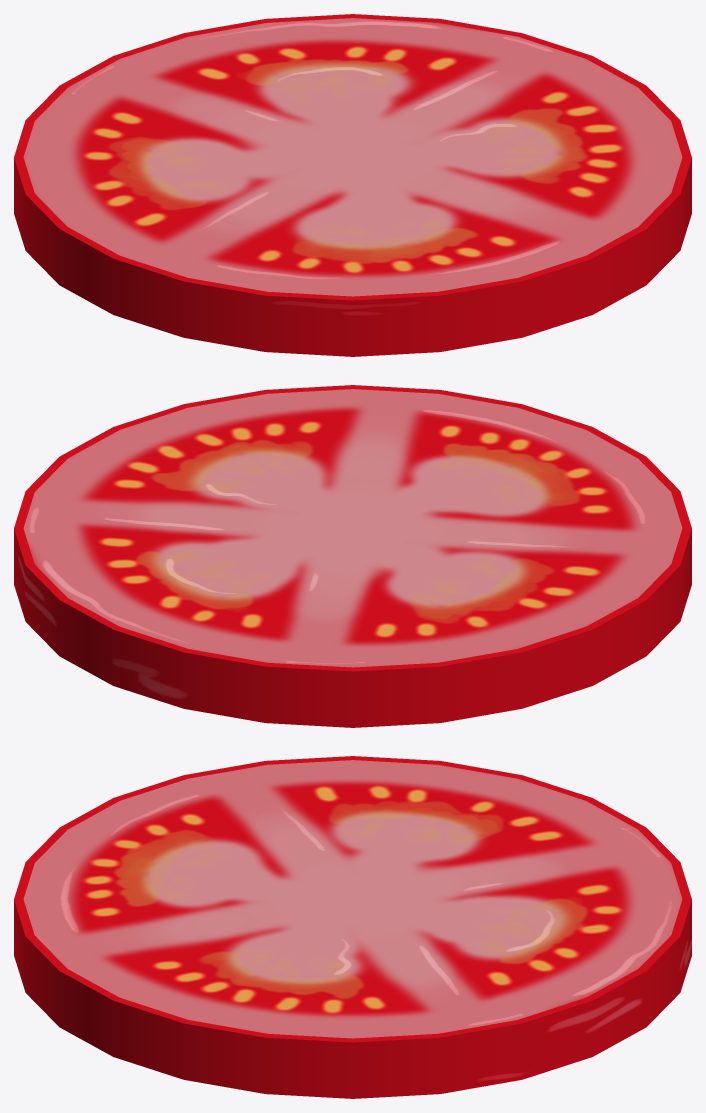
File: tomate.fbx
The picture shows the model from 3 angles, top to bottom: view 1: azimuth 30°, elevation 25°; view 2: azimuth 150°, elevation 25°; view 3: azimuth 270°, elevation 25°; orthographic projection.
Visible parts, largest first — view 1: Cylinder; view 2: Cylinder; view 3: Cylinder.
Part boxes in pixels (left/top/right/bottom): Cylinder: left=14, top=14, right=691, bottom=356; Cylinder: left=14, top=385, right=691, bottom=727; Cylinder: left=14, top=756, right=691, bottom=1098.
Size of the model in its own units: 200 by 18.35 by 200.
